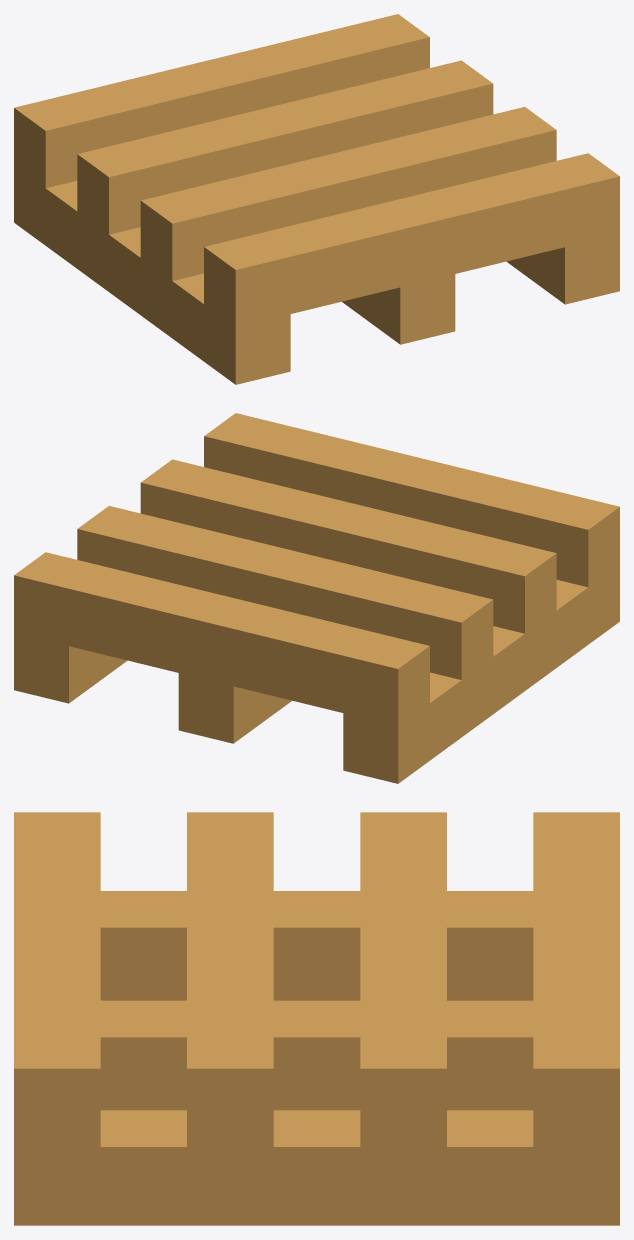
File: wooden_pallet.obj
The picture shows the model from 3 angles, top to bottom: view 1: azimuth 30°, elevation 25°; view 2: azimuth 150°, elevation 25°; view 3: azimuth 270°, elevation 25°; orthographic projection. The views are drawn at different scales.
Size of the model in its own units: 0.7 by 0.2 by 0.7.
Materials: 1 (1 with a texture image).
